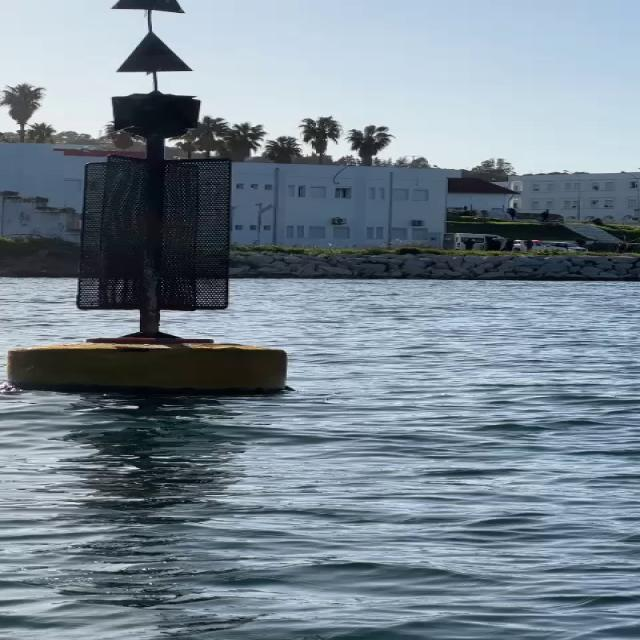marque: (29, 1, 281, 404)
